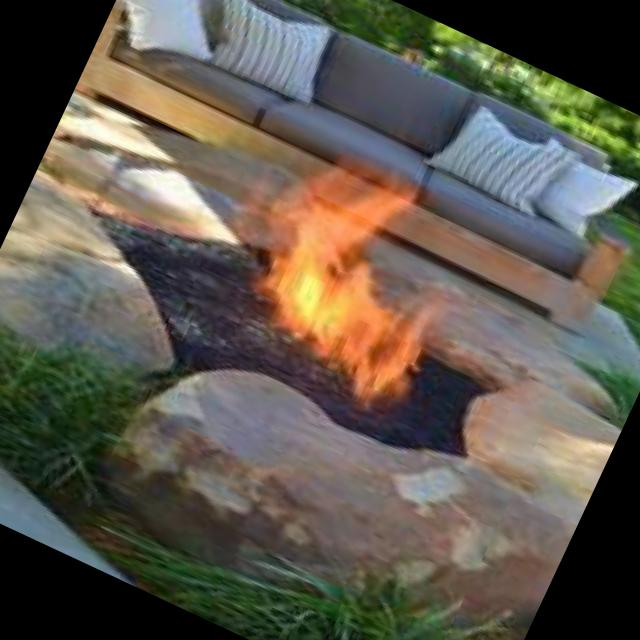fire: (215, 100, 512, 403)
